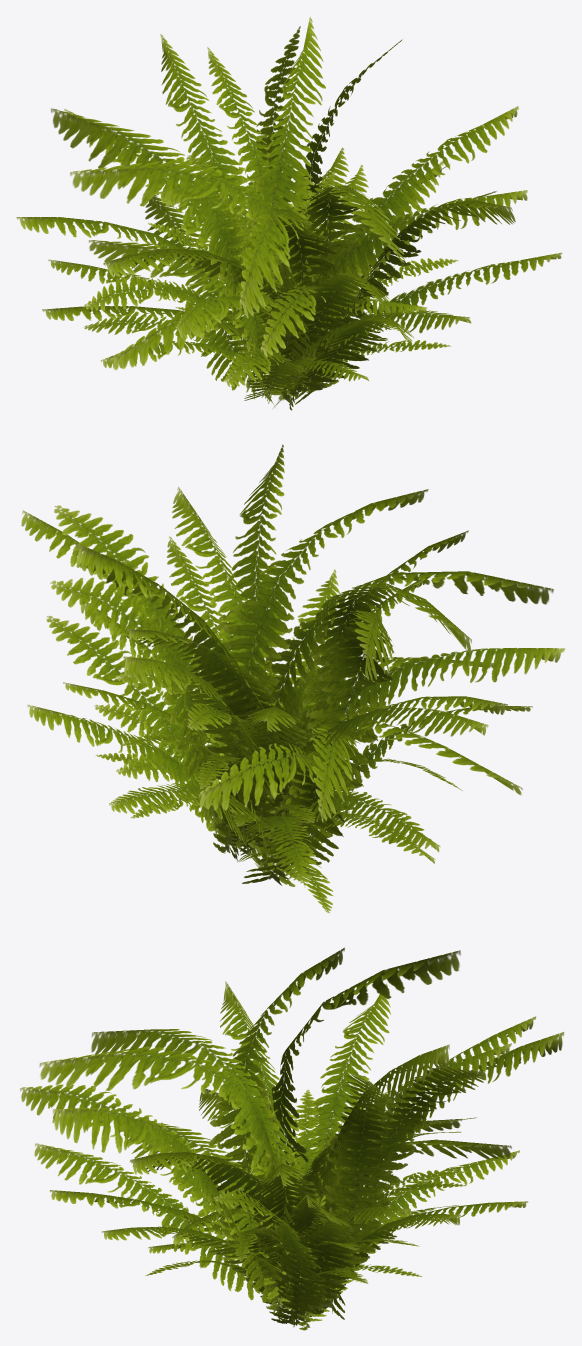
File: fern.glb
The picture shows the model from 3 angles, top to bottom: view 1: azimuth 30°, elevation 25°; view 2: azimuth 150°, elevation 25°; view 3: azimuth 270°, elevation 25°; orthographic projection. The views are drawn at different scales.
Parts seen in each view (by area): view 1: pasted__group11_polySurface51; view 2: pasted__group11_polySurface51; view 3: pasted__group11_polySurface51.
Boxes of the visible parts, x1,y1,x2,y2 form: pasted__group11_polySurface51: [16, 17, 562, 410]; pasted__group11_polySurface51: [21, 444, 565, 913]; pasted__group11_polySurface51: [20, 947, 564, 1330].
Bounding box in the file's own units: 31.31 × 20.63 × 31.17.
Materials: 1 (1 with a texture image).
